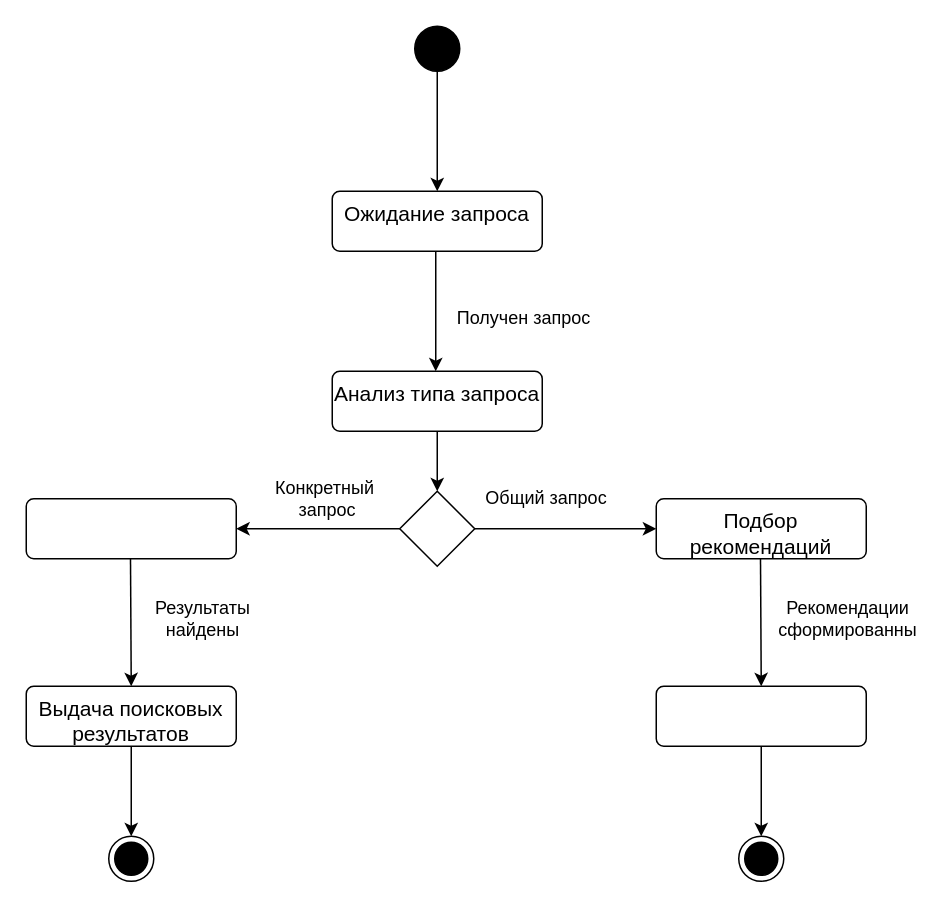
Some shapes in this 947 by 908 pixel diagram are drawn without their labels. Each missing label, with the centre of its shape:
Выдача рекомендаций: [760,715]
Поиск по ключевым словам: [130,528]
